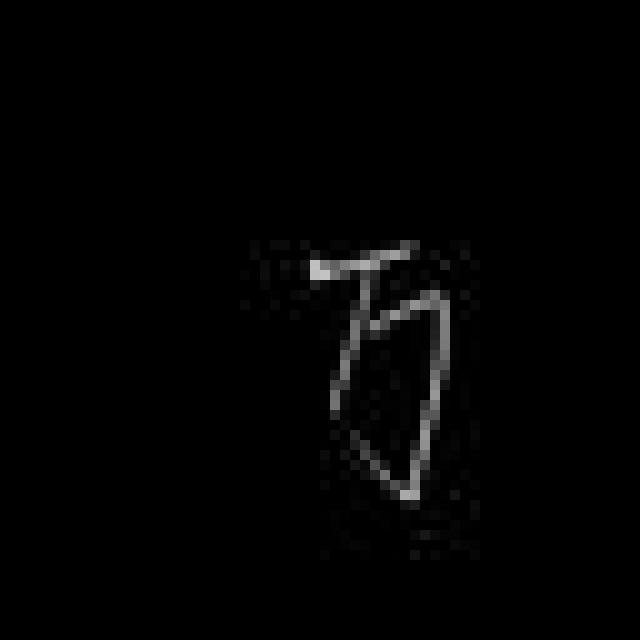10000 -a ten thousand-: (300, 225, 462, 508)
